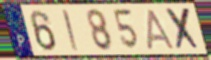5: (110, 8, 140, 52)
6: (28, 9, 57, 53)
8: (86, 7, 114, 53)
A: (146, 8, 176, 51)
I: (61, 8, 81, 52)
X: (164, 7, 203, 52)
